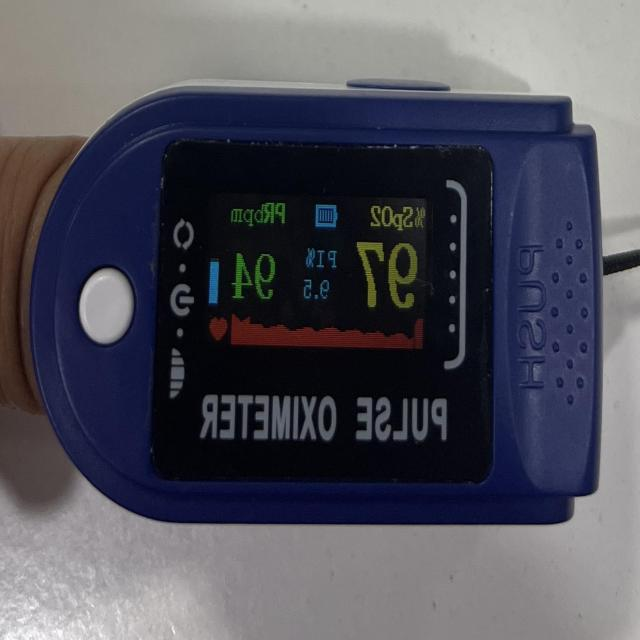spo2: (20, 78, 628, 532)
